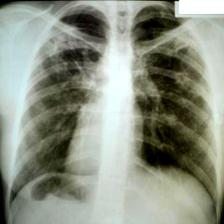tuberculosis: (3, 4, 224, 222)
